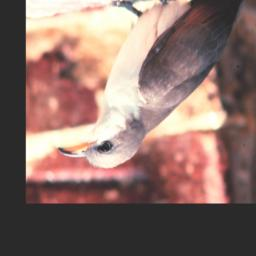Cuckoo: (57, 0, 256, 169)
